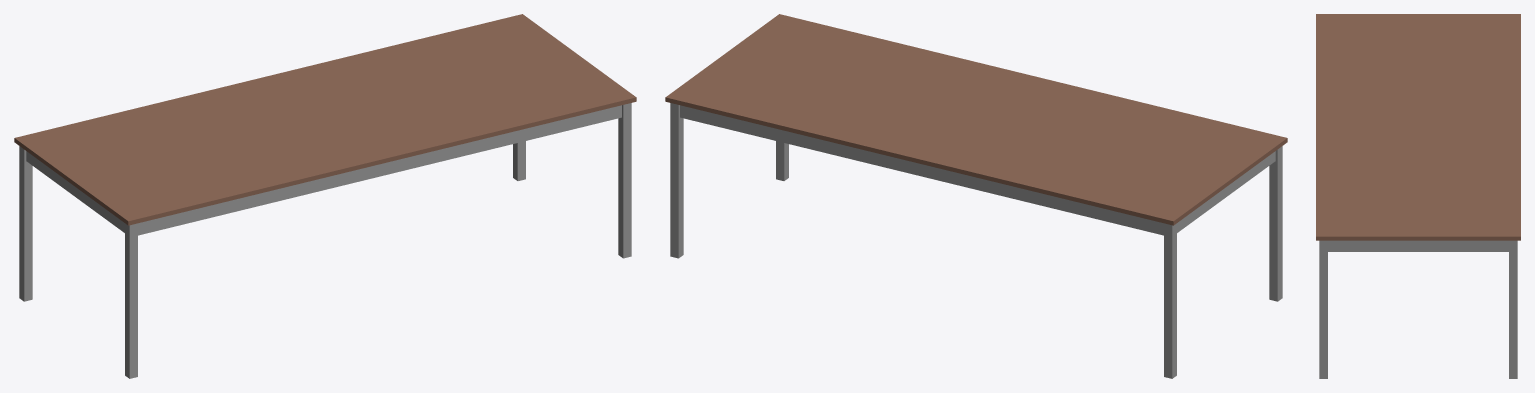
Rendered from table.obj.
The picture shows the model from 3 angles, left to right: view 1: azimuth 30°, elevation 25°; view 2: azimuth 150°, elevation 25°; view 3: azimuth 270°, elevation 25°; orthographic projection. The views are drawn at different scales.
Visible parts, largest first — view 1: tisch_ikea_small.004_Plane.008; view 2: tisch_ikea_small.004_Plane.008; view 3: tisch_ikea_small.004_Plane.008.
Boxes of the visible parts, bbox=[...] form: tisch_ikea_small.004_Plane.008: bbox=[14, 14, 636, 378]; tisch_ikea_small.004_Plane.008: bbox=[665, 14, 1287, 378]; tisch_ikea_small.004_Plane.008: bbox=[1316, 14, 1520, 378].
Bounding box in the file's own units: 2.45 × 0.735 × 0.95.
